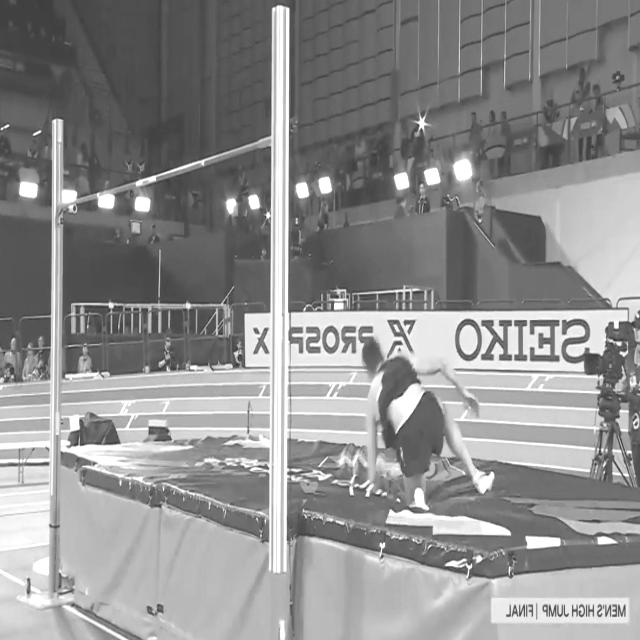land: (363, 338, 495, 507)
